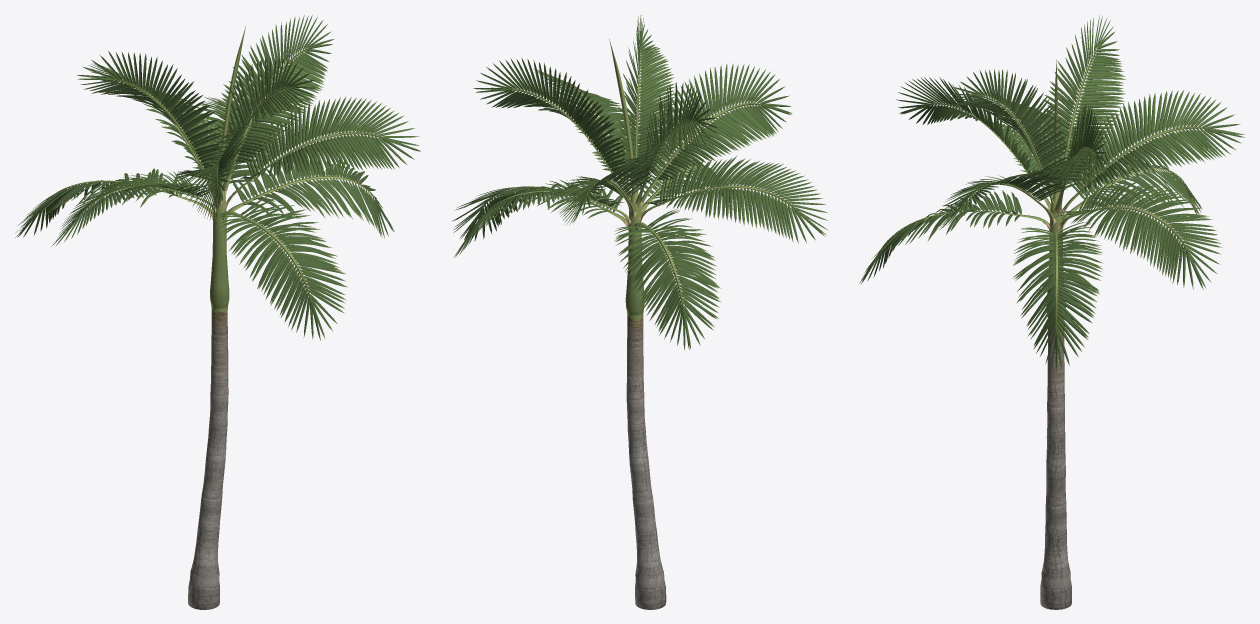
The model's file is Archontophoenix alexandrae HD_Curved no fruit mat 50_LOD0.fbx.
3 renders of one model, left to right at view 1: azimuth 30°, elevation 25°; view 2: azimuth 150°, elevation 25°; view 3: azimuth 270°, elevation 25°, orthographic. The views are drawn at different scales.
Parts seen in each view (by area): view 1: Archontophoenix_alexandrae_HD; view 2: Archontophoenix_alexandrae_HD; view 3: Archontophoenix_alexandrae_HD.
Boxes of the visible parts, left/top/right/bottom form: Archontophoenix_alexandrae_HD: left=15, top=15, right=420, bottom=609; Archontophoenix_alexandrae_HD: left=452, top=15, right=828, bottom=609; Archontophoenix_alexandrae_HD: left=859, top=15, right=1244, bottom=609.
Size of the model in its own units: 4.56 by 6.89 by 4.27.
Materials: 7 (7 with a texture image).
